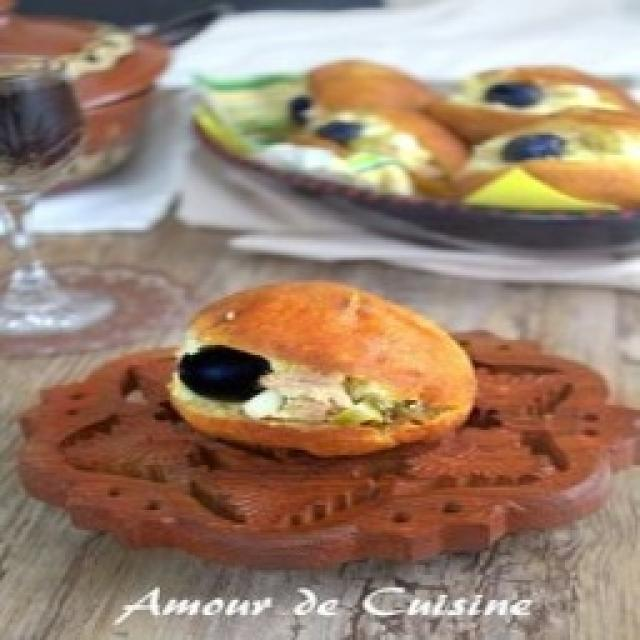Frecasse: (168, 280, 475, 462), (272, 60, 640, 210)
